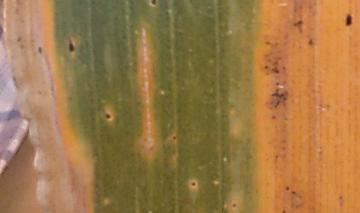tarspot: (271, 88, 285, 109), (65, 34, 75, 52), (292, 19, 304, 34), (344, 13, 353, 28), (269, 64, 281, 74), (103, 111, 112, 121), (36, 45, 43, 56), (15, 34, 22, 45), (307, 37, 314, 47), (263, 40, 272, 47), (284, 184, 291, 192), (270, 114, 278, 121), (337, 194, 344, 201), (290, 189, 297, 196), (150, 1, 158, 7), (190, 180, 196, 188), (281, 64, 287, 72), (263, 64, 269, 71), (171, 134, 177, 141), (230, 202, 236, 209), (274, 81, 281, 87), (273, 153, 278, 161), (280, 207, 286, 213)
